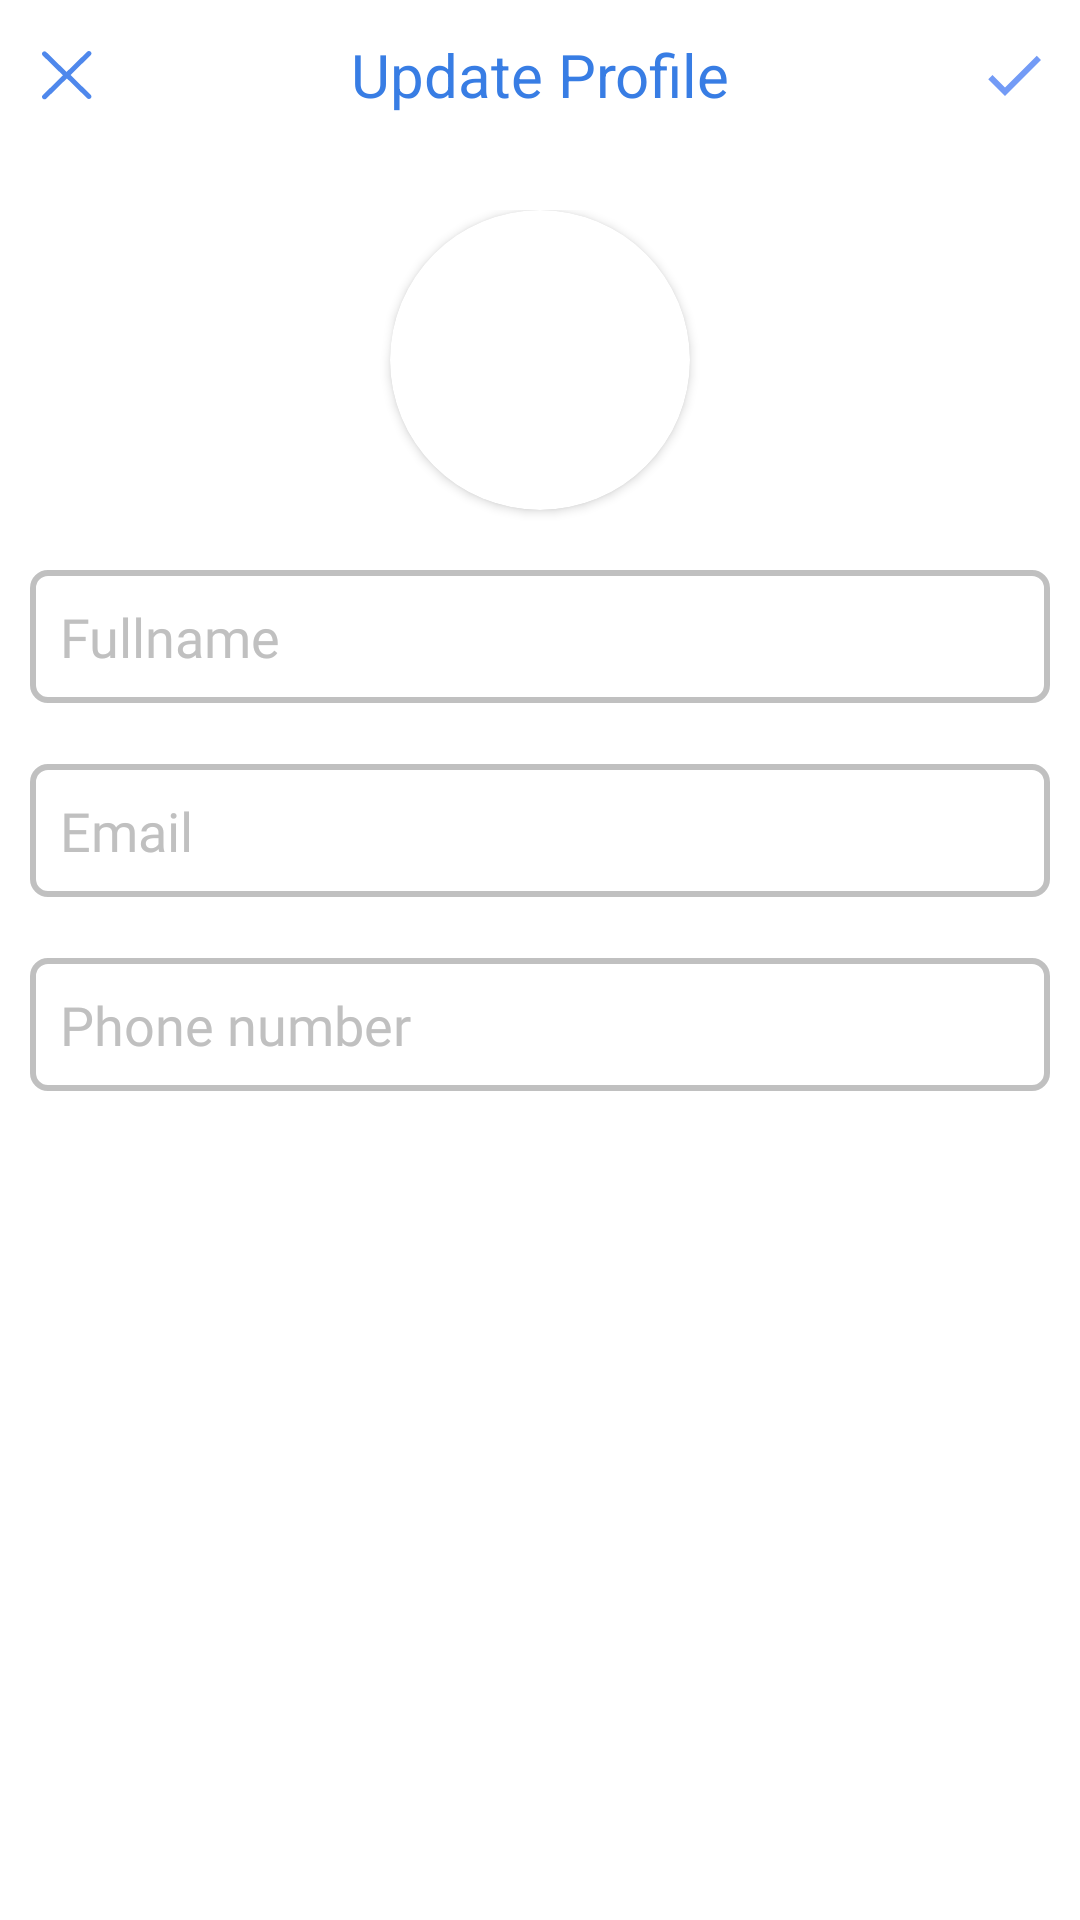

Where to tap for icons on this 1080x1920 app screen, as [x,y]:
check: [1014,76]
close: [67,75]
